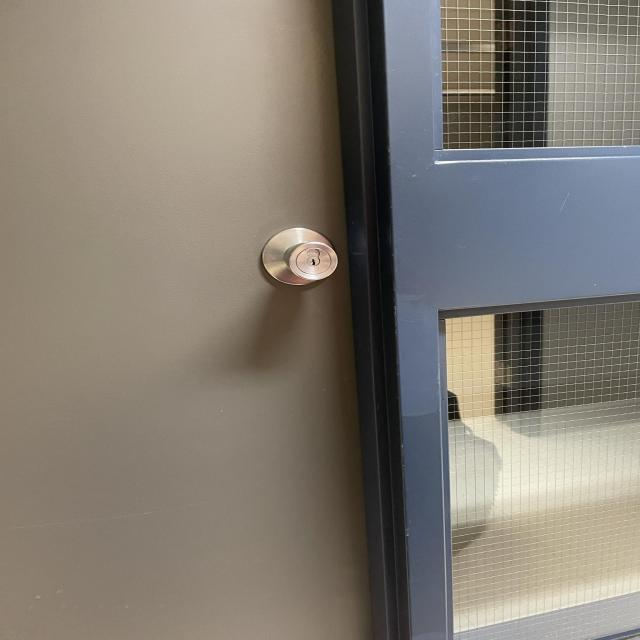door-knob: (262, 228, 338, 285)
